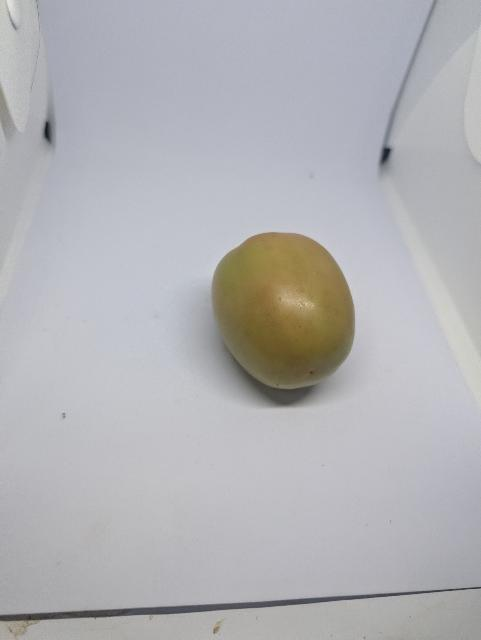breaker: (195, 226, 377, 406)
